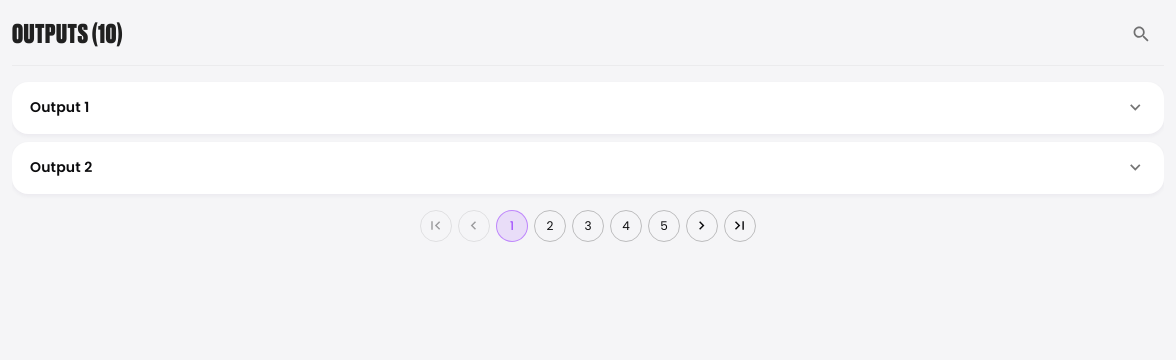
Test: Outputs › shows and hides search UI for outputs
The image size is (1176, 360).
// Click to show search
Click the button named "Show search" at (1142, 34), box [1119,12,1164,57]
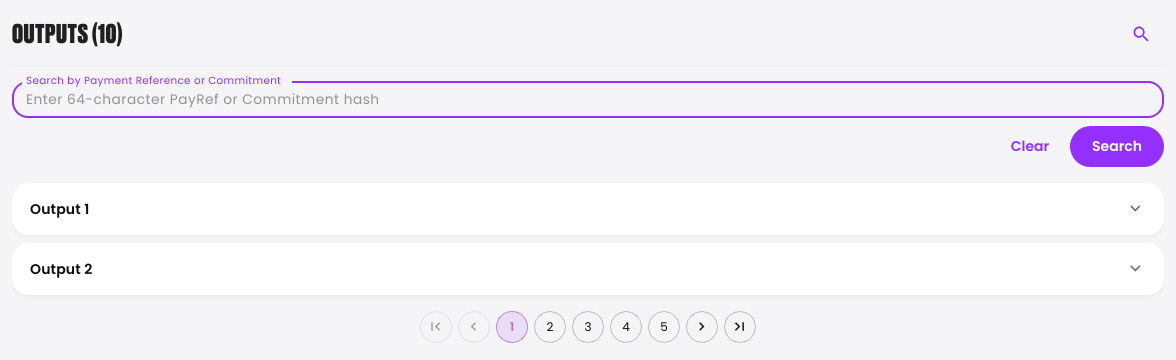
Expected: the field labelled "Search by Payment Reference or Commitment" is shown, [12,82,1164,118]
// Click to hide search
Click the button named "Hide search" at (1142, 34), box [1119,12,1164,57]
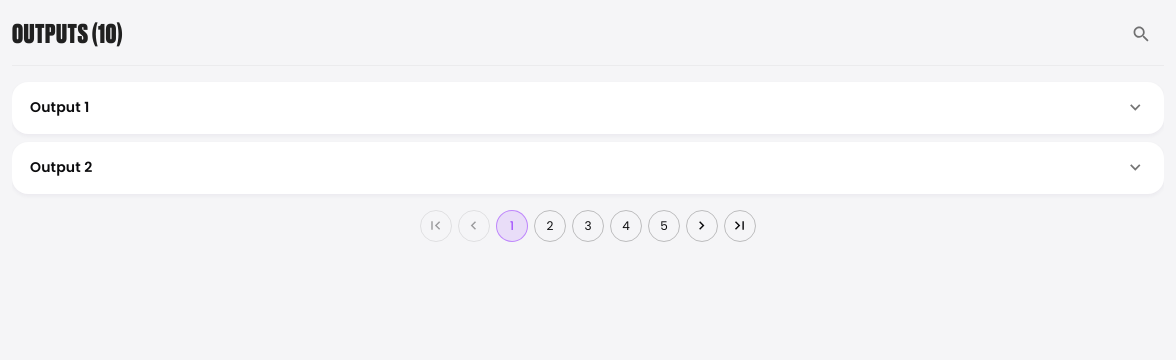
Expected: the label labelled "Search by Payment Reference or Commitment" is gone
